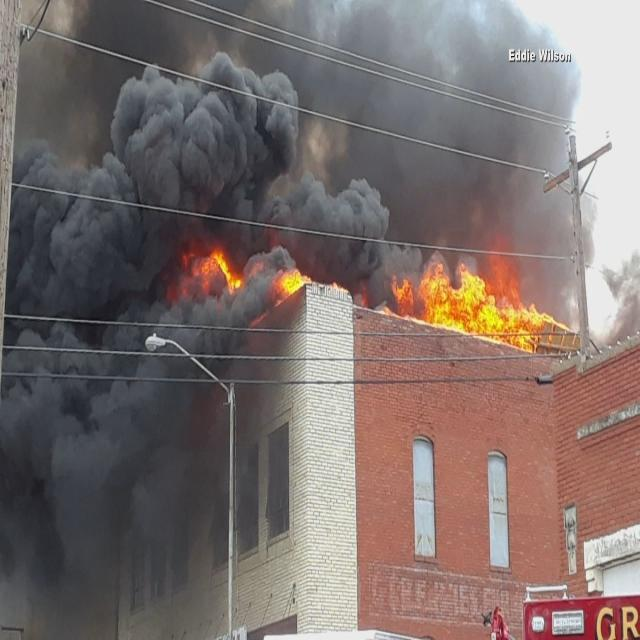Fire: (417, 260, 572, 360)
Smoke: (25, 142, 145, 524), (176, 58, 292, 194), (294, 174, 378, 282)
